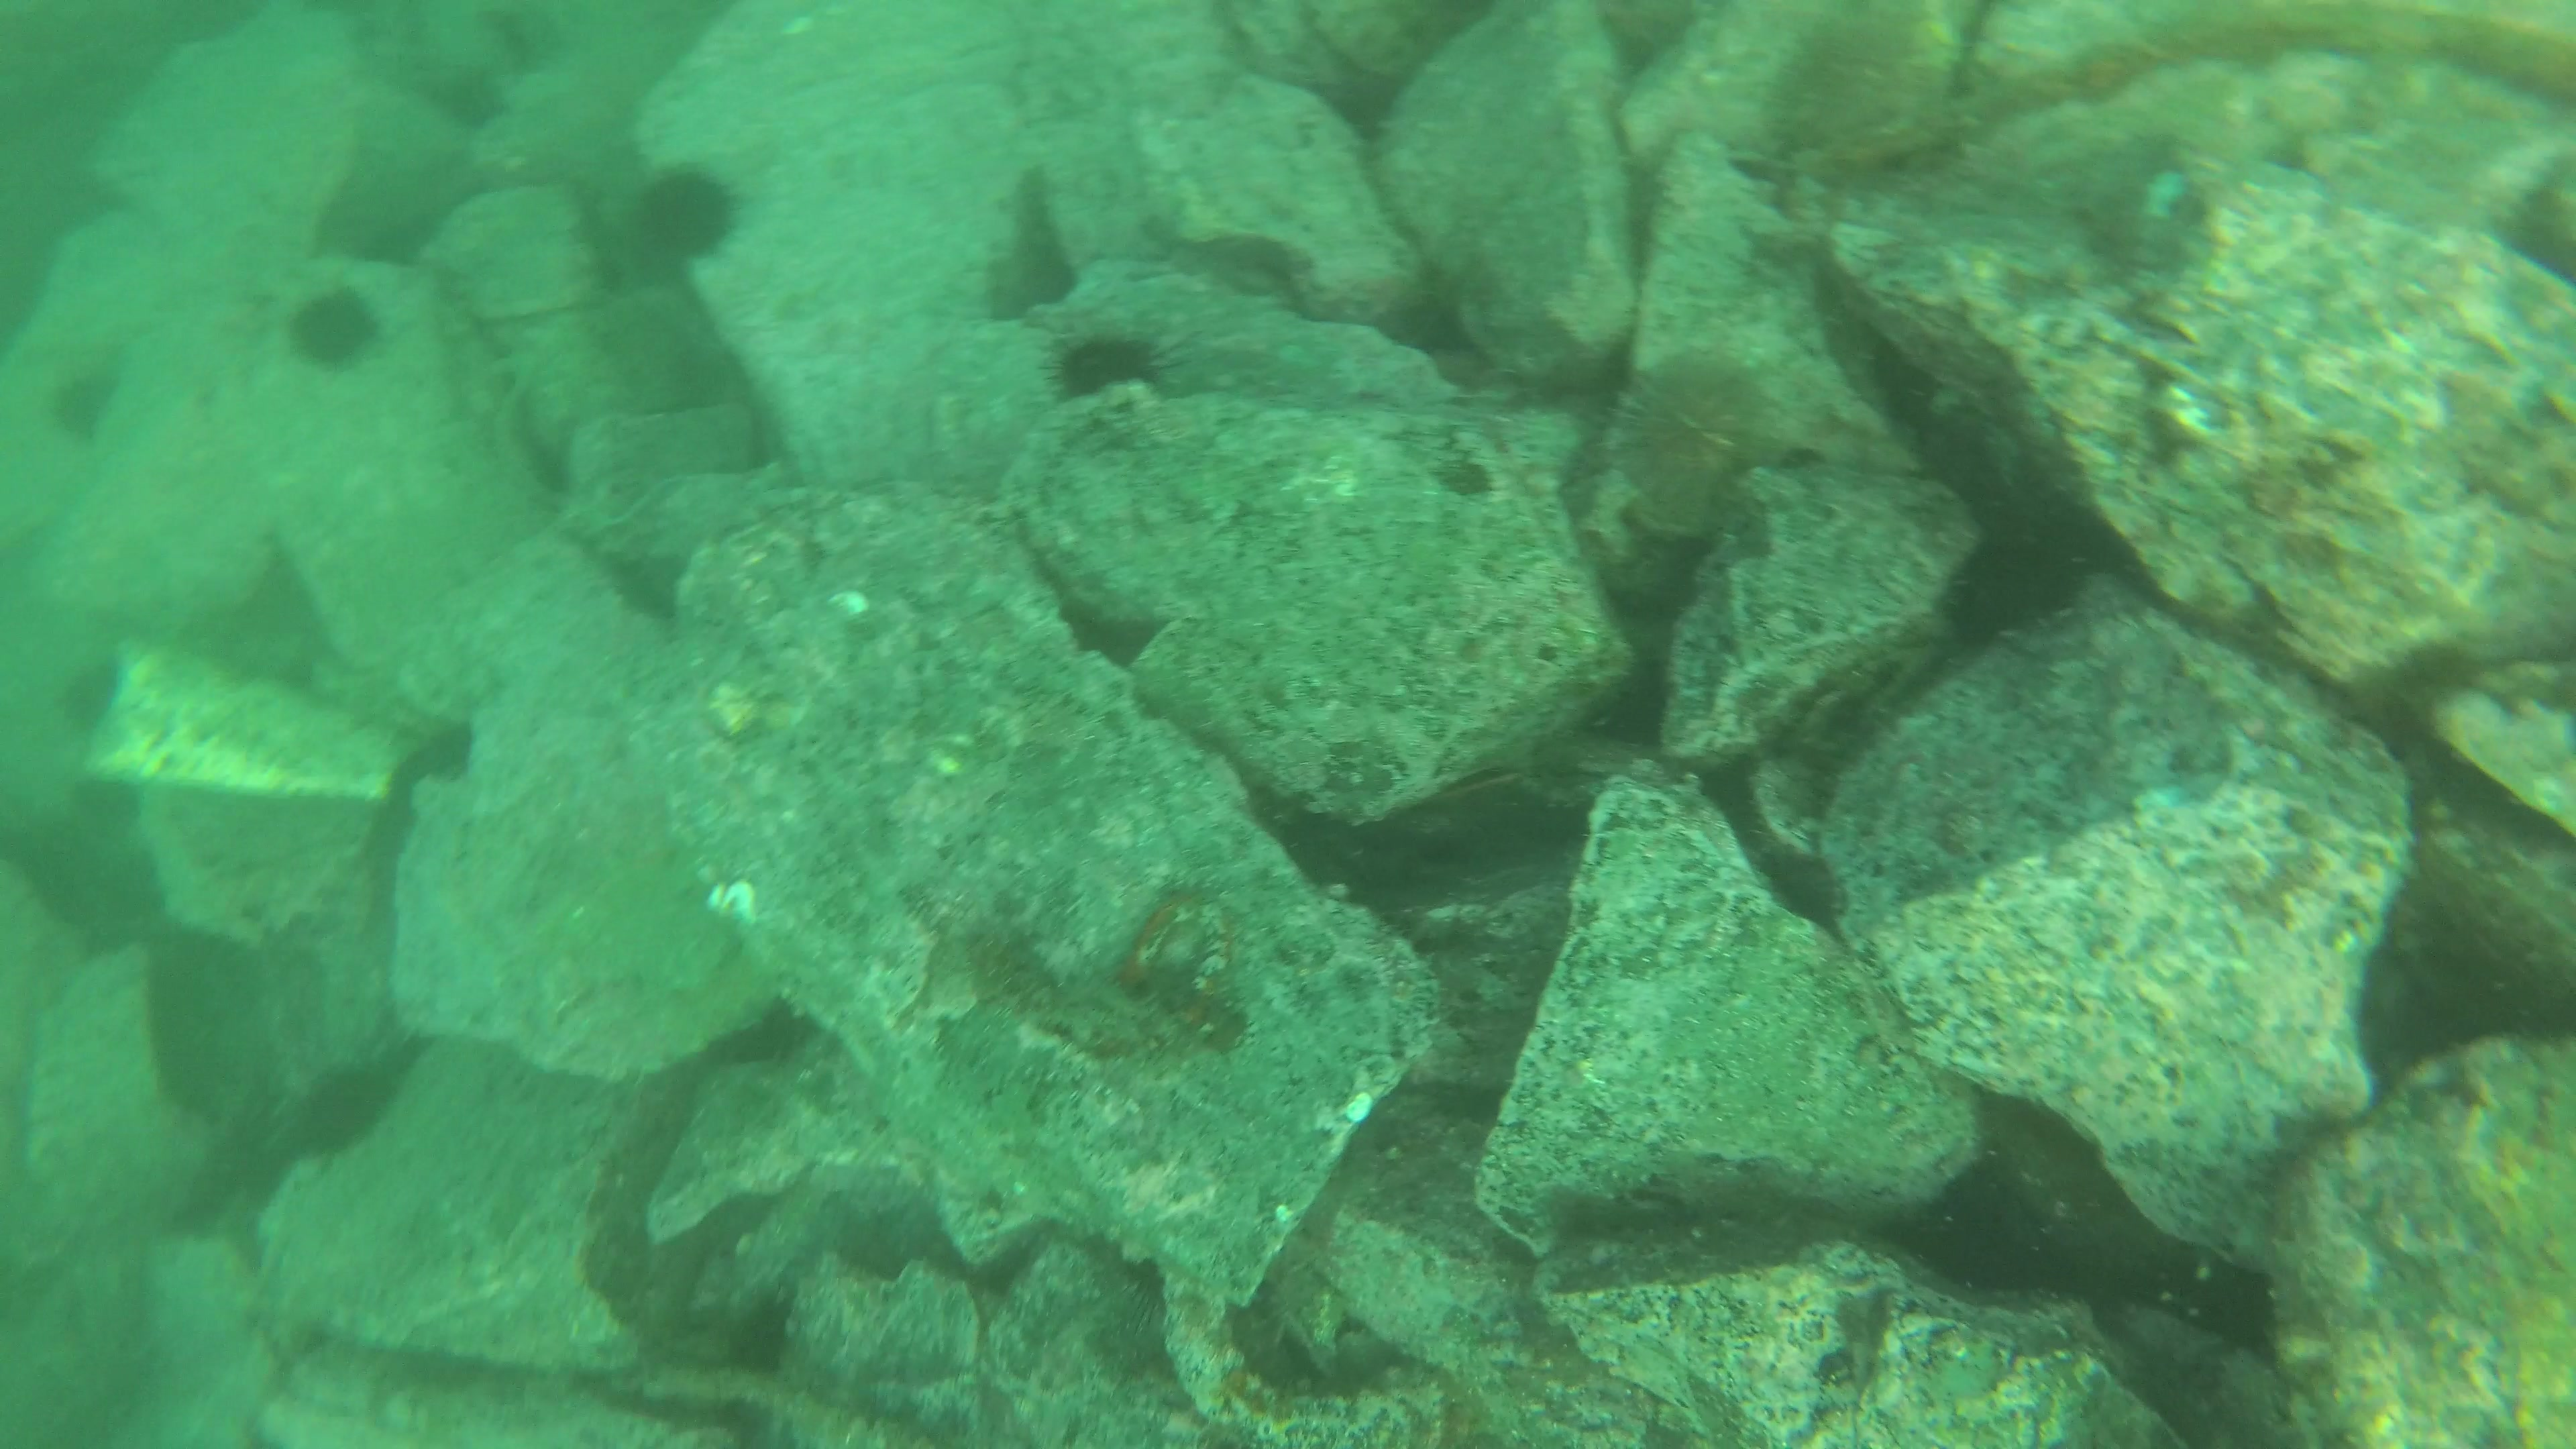echinus: (1615, 350, 1760, 501), (1049, 333, 1162, 410), (635, 172, 732, 253), (290, 288, 384, 364), (55, 370, 126, 448)
